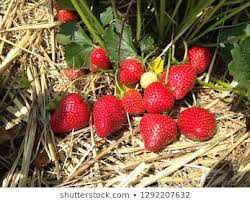ripe: (136, 111, 180, 152), (50, 92, 90, 134), (159, 62, 198, 101), (178, 107, 221, 141), (92, 94, 125, 138), (142, 79, 175, 114), (184, 44, 210, 75), (121, 86, 147, 115), (85, 45, 110, 74), (119, 58, 144, 85), (55, 9, 77, 25)
unripe: (139, 68, 159, 89)
